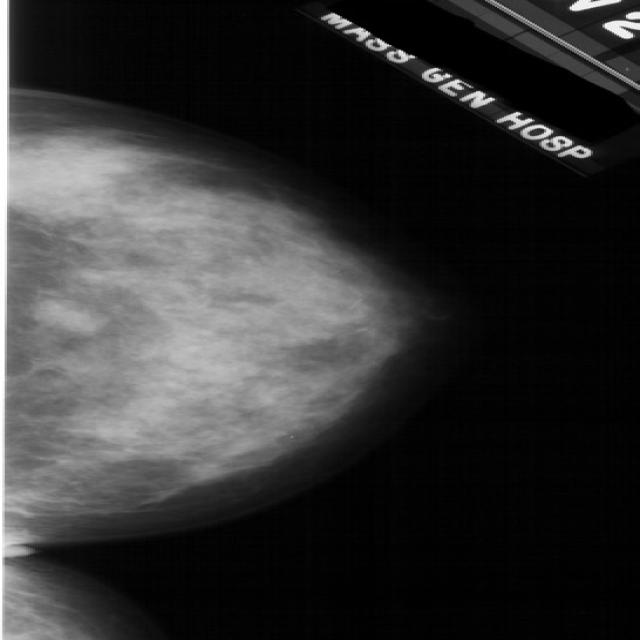tumour: (26, 296, 103, 332)
